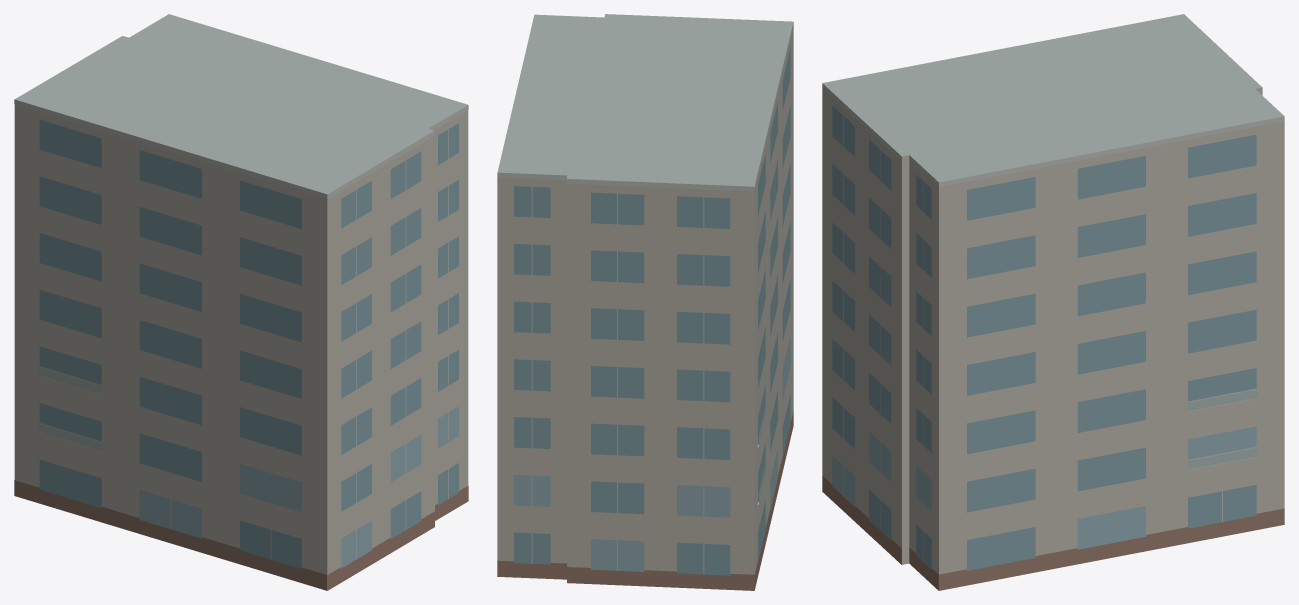
The model's file is survey-upis-32748285.glb.
The picture shows the model from 3 angles, left to right: view 1: azimuth 30°, elevation 25°; view 2: azimuth 150°, elevation 25°; view 3: azimuth 270°, elevation 25°; orthographic projection. The views are drawn at different scales.
Visible parts, largest first — view 1: survey-upis-32748285.tmp; view 2: survey-upis-32748285.tmp; view 3: survey-upis-32748285.tmp.
Boxes of the visible parts, x1,y1,x2,y2 form: survey-upis-32748285.tmp: [14, 14, 468, 590]; survey-upis-32748285.tmp: [497, 14, 793, 590]; survey-upis-32748285.tmp: [822, 14, 1284, 590].
Bounding box in the file's own units: 17.87 × 20.2 × 20.73.
